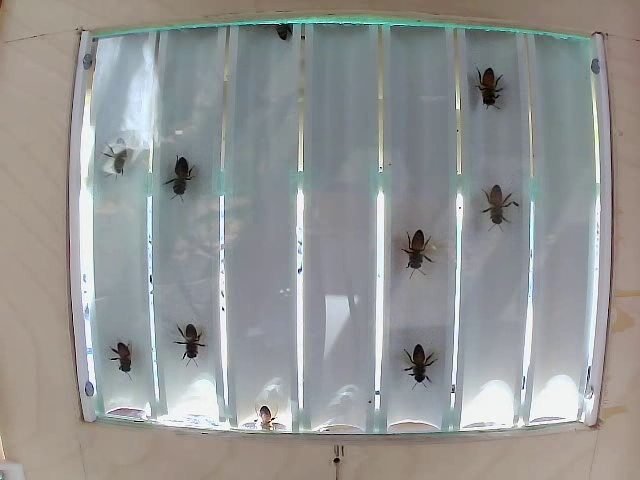bee: (95, 125, 150, 189), (174, 317, 221, 380), (405, 335, 459, 387), (398, 220, 434, 285), (102, 326, 142, 380), (163, 146, 203, 199), (481, 168, 512, 234), (470, 50, 504, 105)
